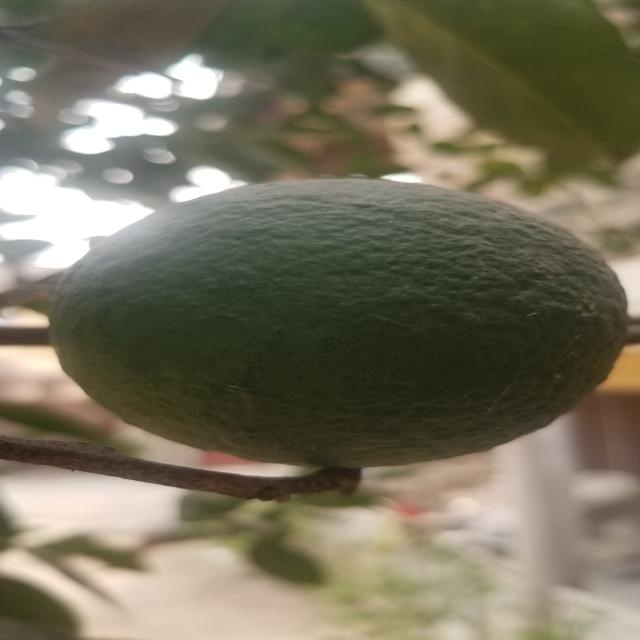agrume: (42, 178, 634, 466)
